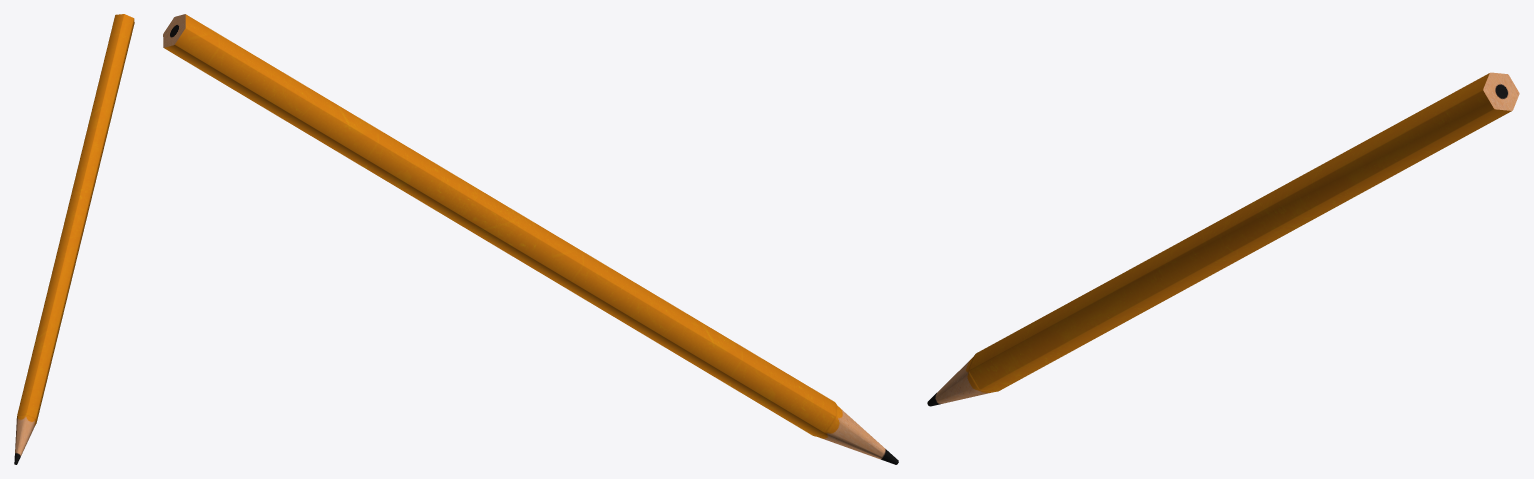
3 renders of one model, left to right at view 1: azimuth 30°, elevation 25°; view 2: azimuth 150°, elevation 25°; view 3: azimuth 270°, elevation 25°, orthographic. The views are drawn at different scales.
Visible parts, largest first — view 1: Pencil; view 2: Pencil; view 3: Pencil.
Part boxes in pixels (x1=…): Pencil: x1=14, y1=14, x2=134, y2=464; Pencil: x1=163, y1=14, x2=898, y2=464; Pencil: x1=927, y1=72, x2=1519, y2=406.
Bounding box in the file's own units: 0.0988 × 0.1042 × 0.0971.
1 material, 1 textured.
